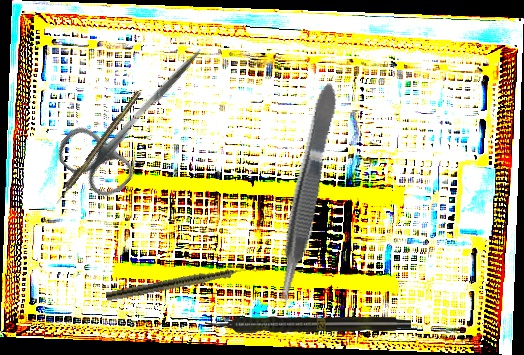Handpiece: (105, 262, 258, 304), (205, 315, 411, 333)
Hook Surgical: (52, 89, 143, 206)
Iris Scissors: (50, 21, 227, 206)
Tissue Forceps: (267, 80, 346, 310)
